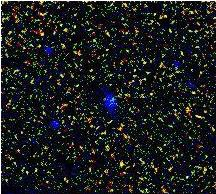star: (111, 141, 141, 171)
